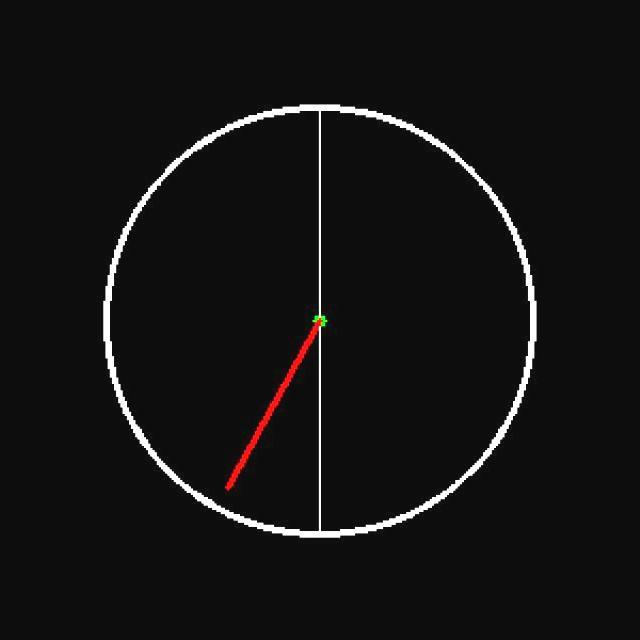Needle_Tip: (212, 423, 257, 516)
Needle_base: (288, 303, 346, 333)
